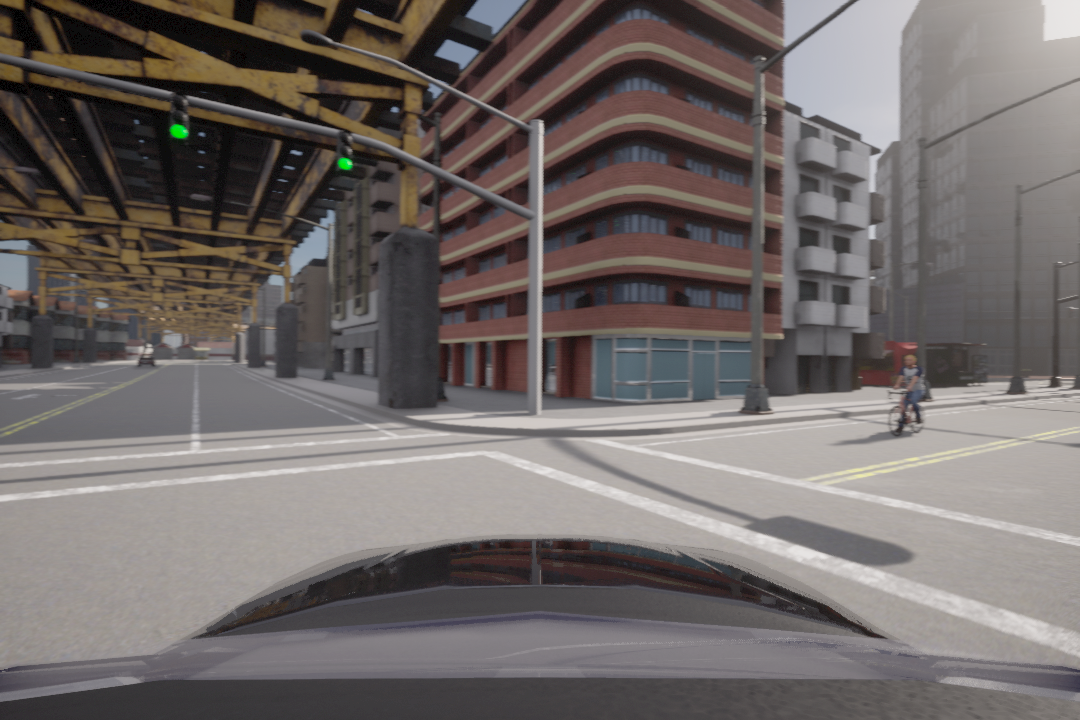TrafficLight: (171, 92, 188, 144), (336, 128, 354, 171)
